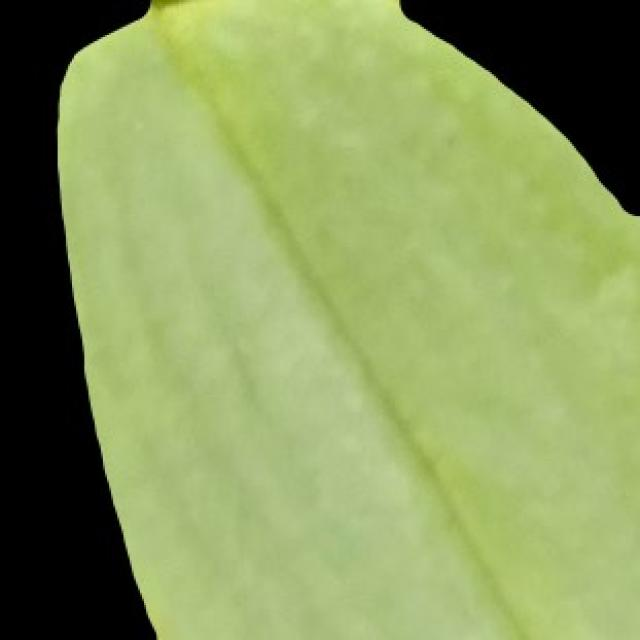mite: (140, 0, 403, 8), (144, 0, 210, 6)
spots: (54, 0, 638, 638)
